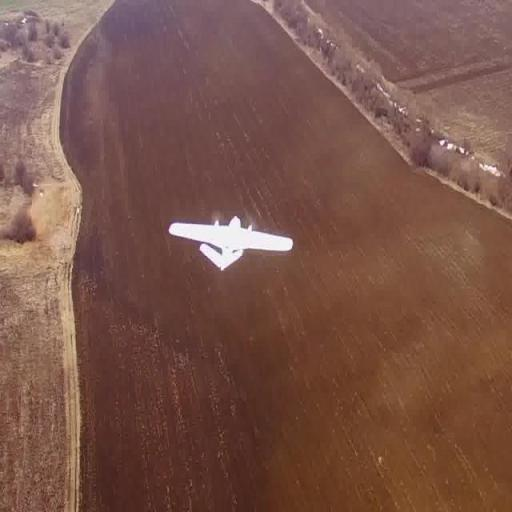uav: (162, 206, 297, 282)
